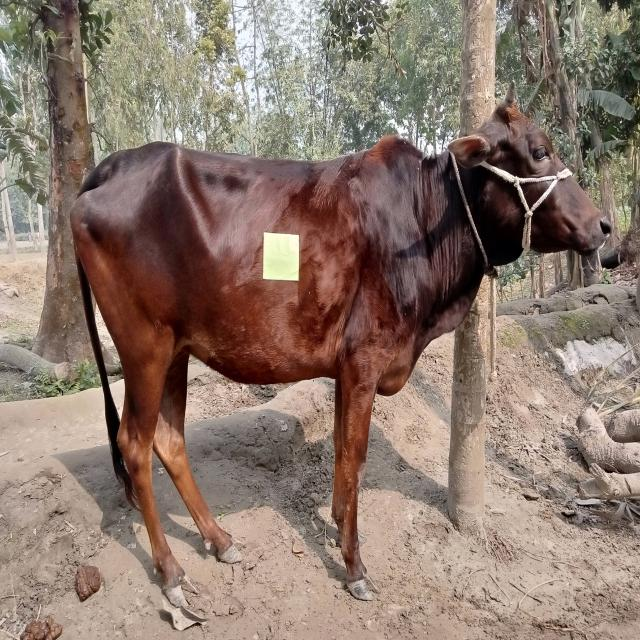badan_sapi: (123, 150, 379, 383)
sapi: (67, 76, 614, 640)
